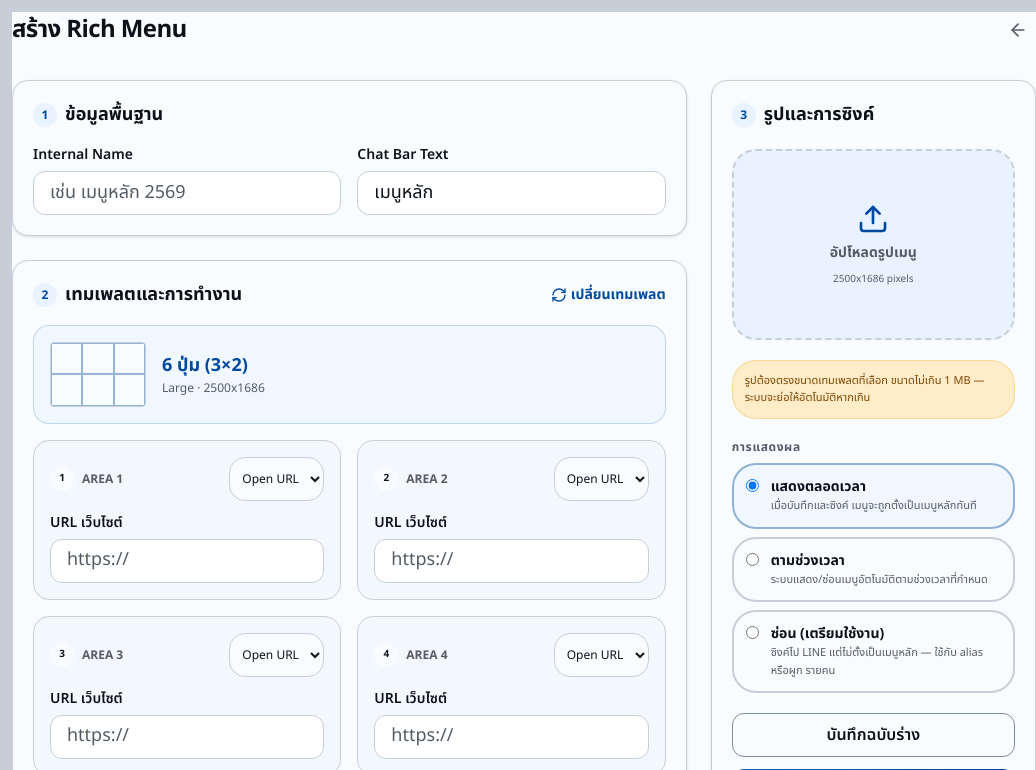
Test: RichMenuBuilderClient › บล็อกเมื่อยังไม่กรอกชื่อเมนู
The image size is (1036, 770).
Expected: the text "6 ปุ่ม (3×2)" is shown, [162,352,248,379]
Click the button "บันทึกฉบับร่าง": coordinates (873, 736) [732,714,1015,758]
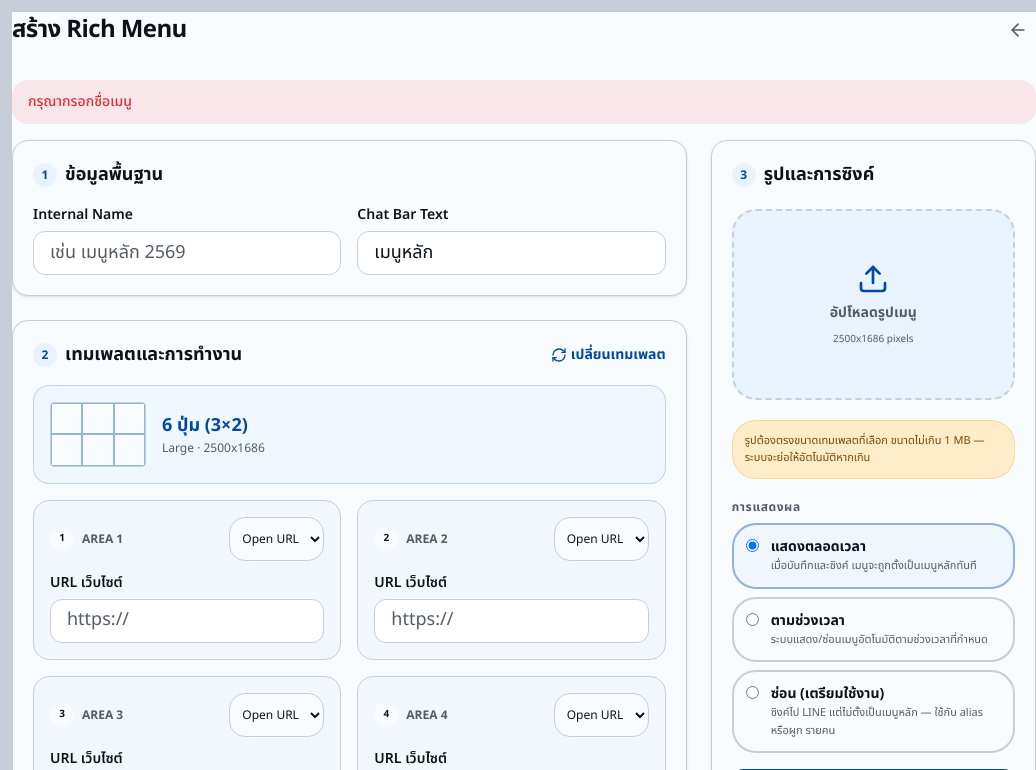
Result: the message reads "กรุณากรอกชื่อเมนู" at [28,91,132,112]
